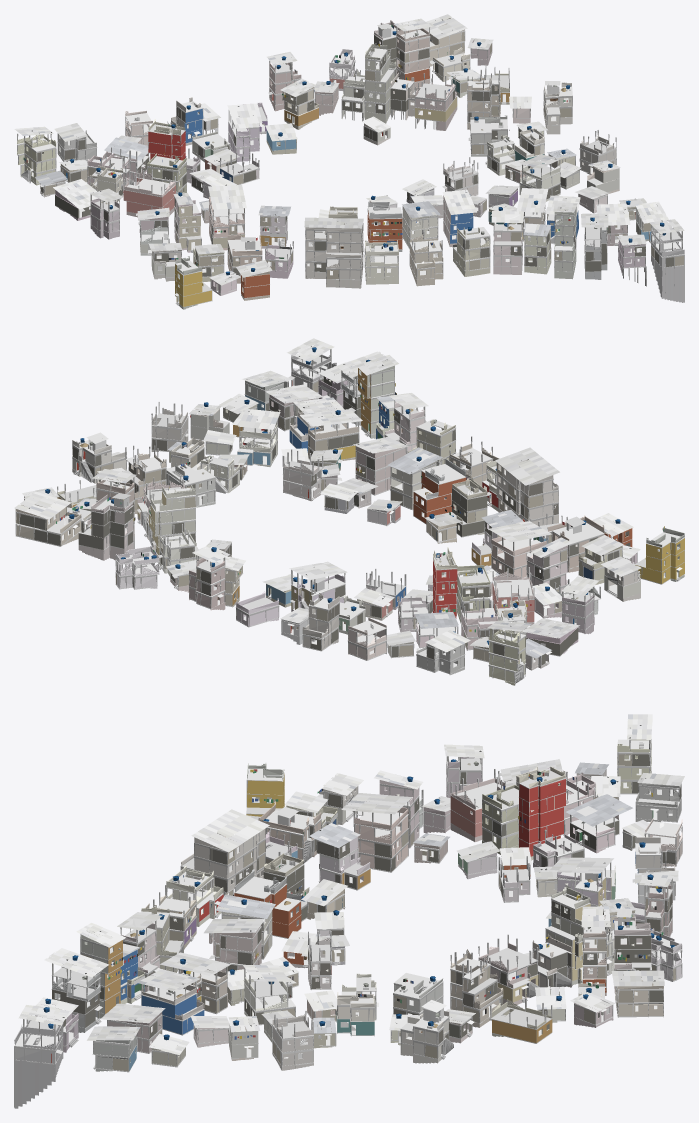
3 renders of one model, top to bottom at view 1: azimuth 30°, elevation 25°; view 2: azimuth 150°, elevation 25°; view 3: azimuth 270°, elevation 25°, orthographic. The views are drawn at different scales.
Visible parts, largest first — view 1: T_25_24; view 2: T_25_24; view 3: T_25_24.
Part boxes in pixels (bbox=[...]): T_25_24: bbox=[14, 14, 684, 309]; T_25_24: bbox=[14, 338, 684, 685]; T_25_24: bbox=[14, 714, 684, 1108].
Size of the model in its own units: 134 by 33.82 by 126.
